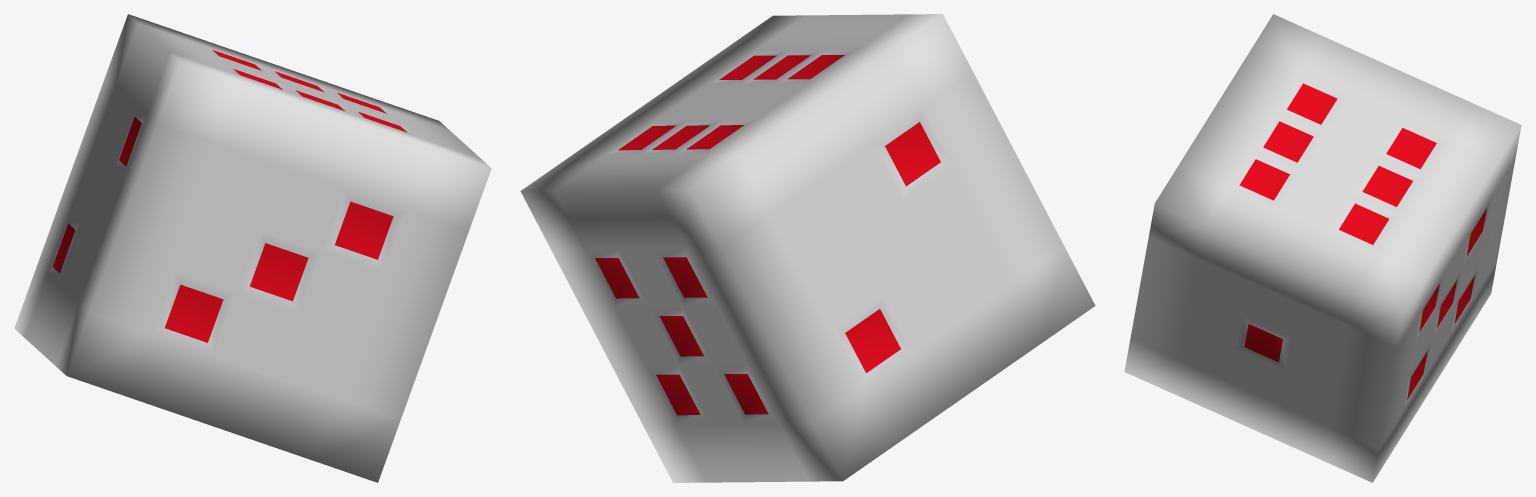
File: Dice001.gltf
3 views of the same model, side by side, from view 1: azimuth 30°, elevation 25°; view 2: azimuth 150°, elevation 25°; view 3: azimuth 270°, elevation 25° (orthographic). The views are drawn at different scales.
Visible parts, largest first — view 1: Cube; view 2: Cube; view 3: Cube.
Boxes of the visible parts, x1,y1,x2,y2 form: Cube: (14,14,491,482); Cube: (520,14,1095,482); Cube: (1124,14,1521,482).
Size of what is drawn, in the model's own units: 1.66 by 1.58 by 1.47.
